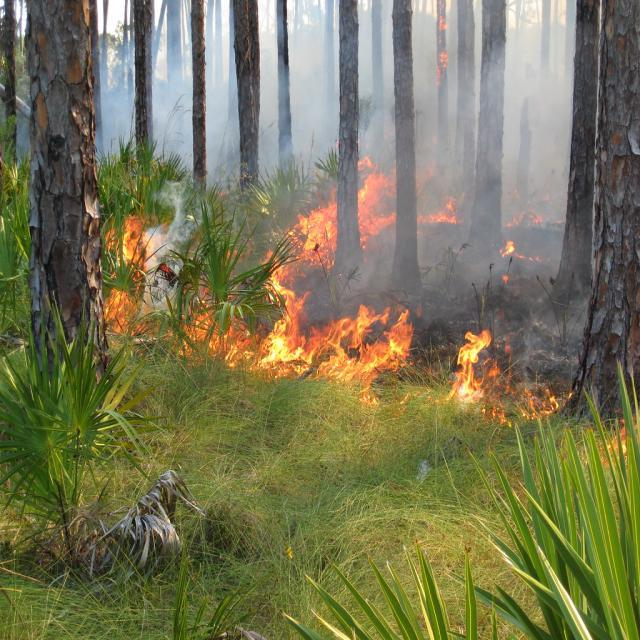Fire: (180, 294, 414, 408), (453, 332, 562, 424), (105, 214, 152, 332), (356, 151, 394, 240), (293, 196, 336, 272), (502, 182, 558, 228), (421, 180, 463, 224), (431, 3, 452, 82), (497, 241, 547, 267)
